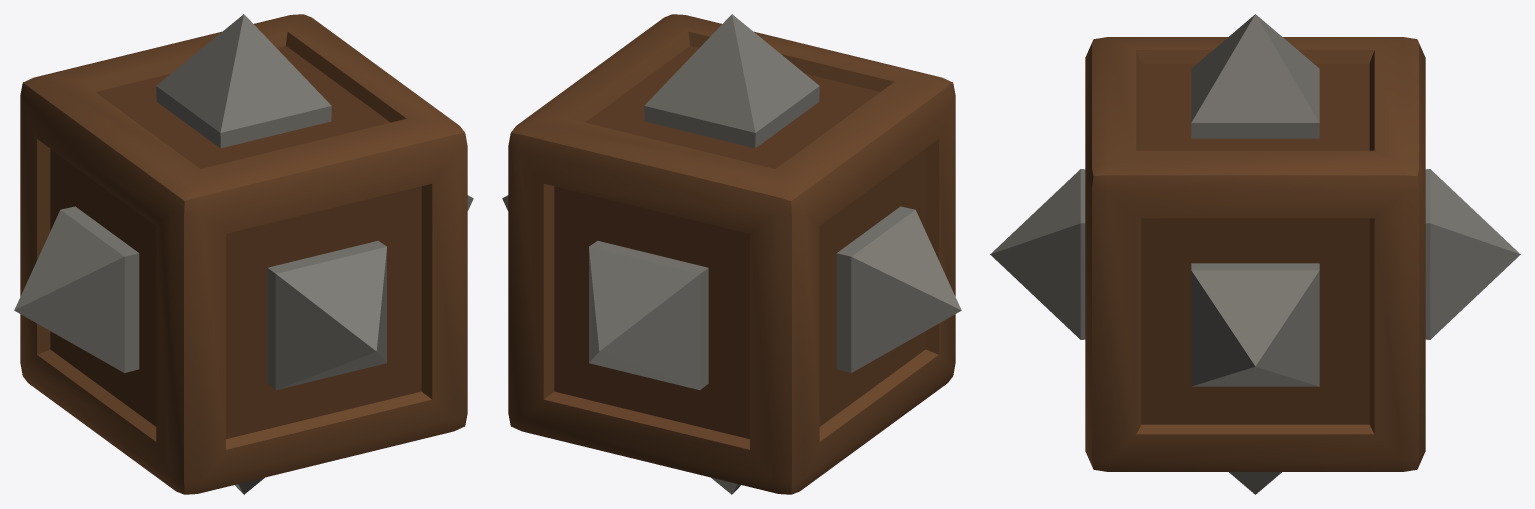
The model's file is cc0-cube-spikes-lod0.glb.
3 renders of one model, left to right at view 1: azimuth 30°, elevation 25°; view 2: azimuth 150°, elevation 25°; view 3: azimuth 270°, elevation 25°, orthographic.
Visible parts, largest first — view 1: part_0; view 2: part_0; view 3: part_0.
Boxes of the visible parts, <box> form: part_0: <box>14,14,473,494</box>; part_0: <box>502,14,961,494</box>; part_0: <box>990,14,1520,494</box>.
Bounding box in the file's own units: 3.15 × 3.15 × 3.15.
